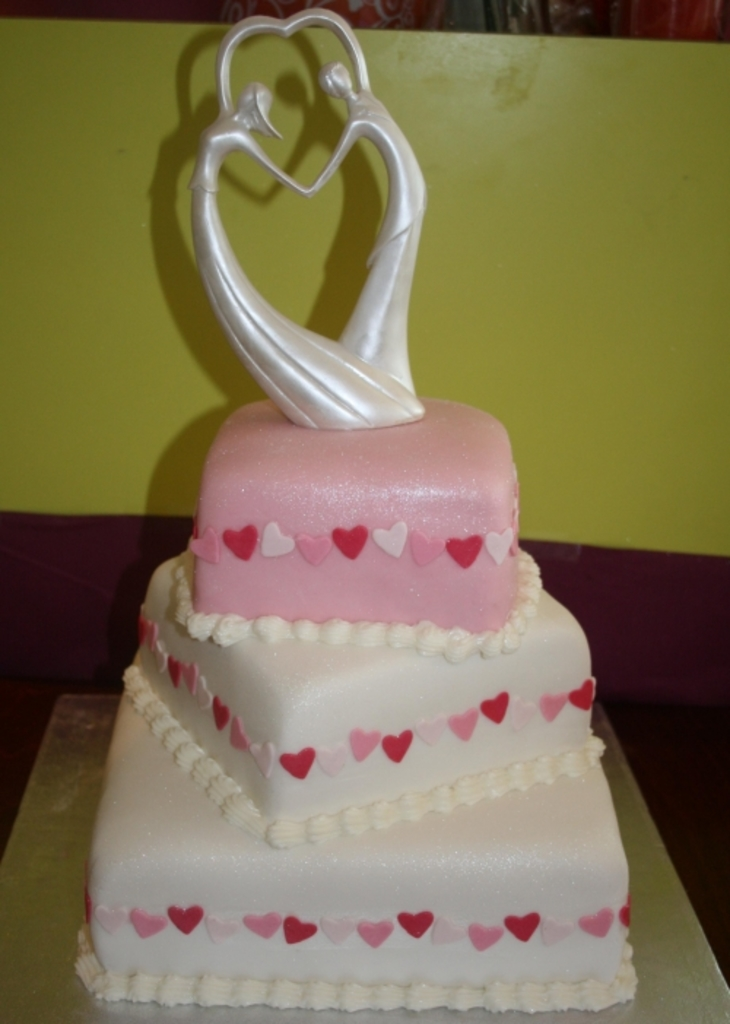cake: (72, 389, 650, 1017)
